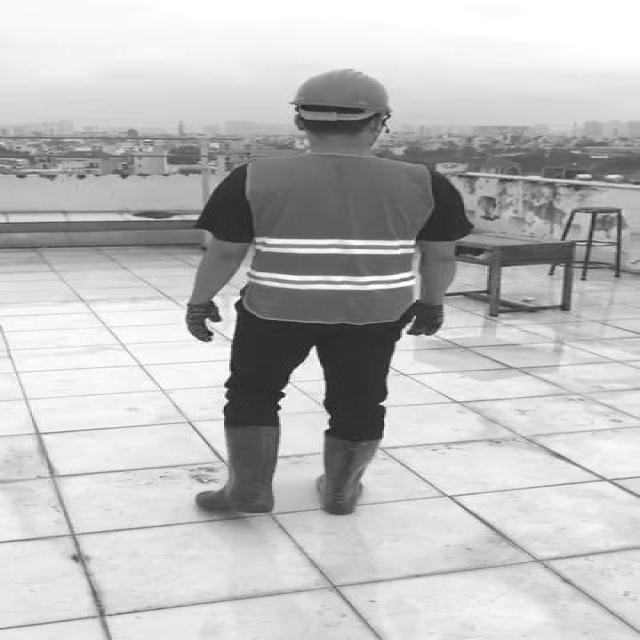boots: (190, 423, 276, 514), (316, 431, 377, 515)
hand_glove: (183, 302, 226, 343), (404, 303, 446, 336)
head_helmet: (287, 64, 396, 112)
person: (162, 62, 480, 524)
vest: (242, 152, 434, 324)
